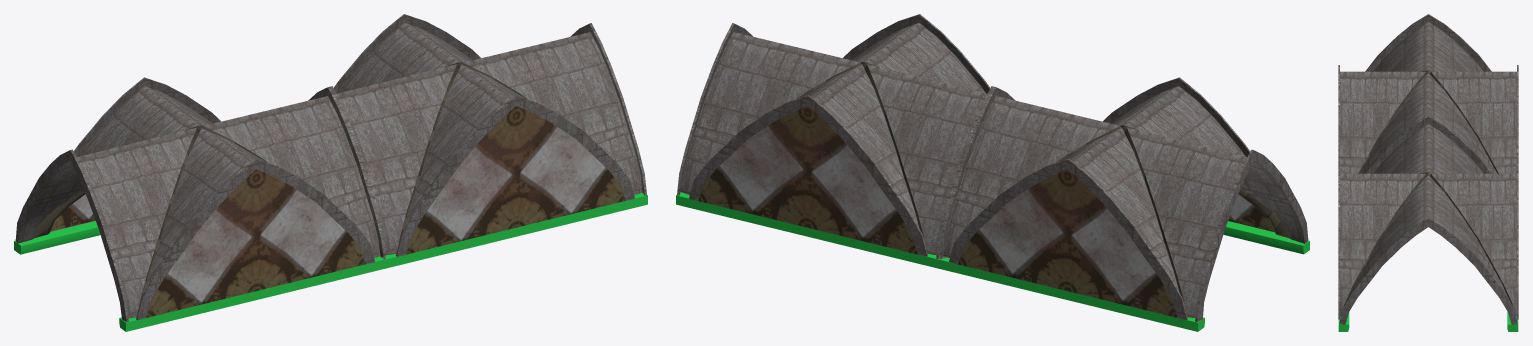
Rendered from Vault Ceiling.fbx.
3 renders of one model, left to right at view 1: azimuth 30°, elevation 25°; view 2: azimuth 150°, elevation 25°; view 3: azimuth 270°, elevation 25°, orthographic. The views are drawn at different scales.
Visible parts, largest first — view 1: Plane_001; view 2: Plane_001; view 3: Plane_001.
Part boxes in pixels (x1,y1,x2,y2): Plane_001: [14, 14, 647, 331]; Plane_001: [676, 14, 1309, 331]; Plane_001: [1338, 14, 1518, 331].
Bounding box in the file's own units: 1262 × 324 × 468.
